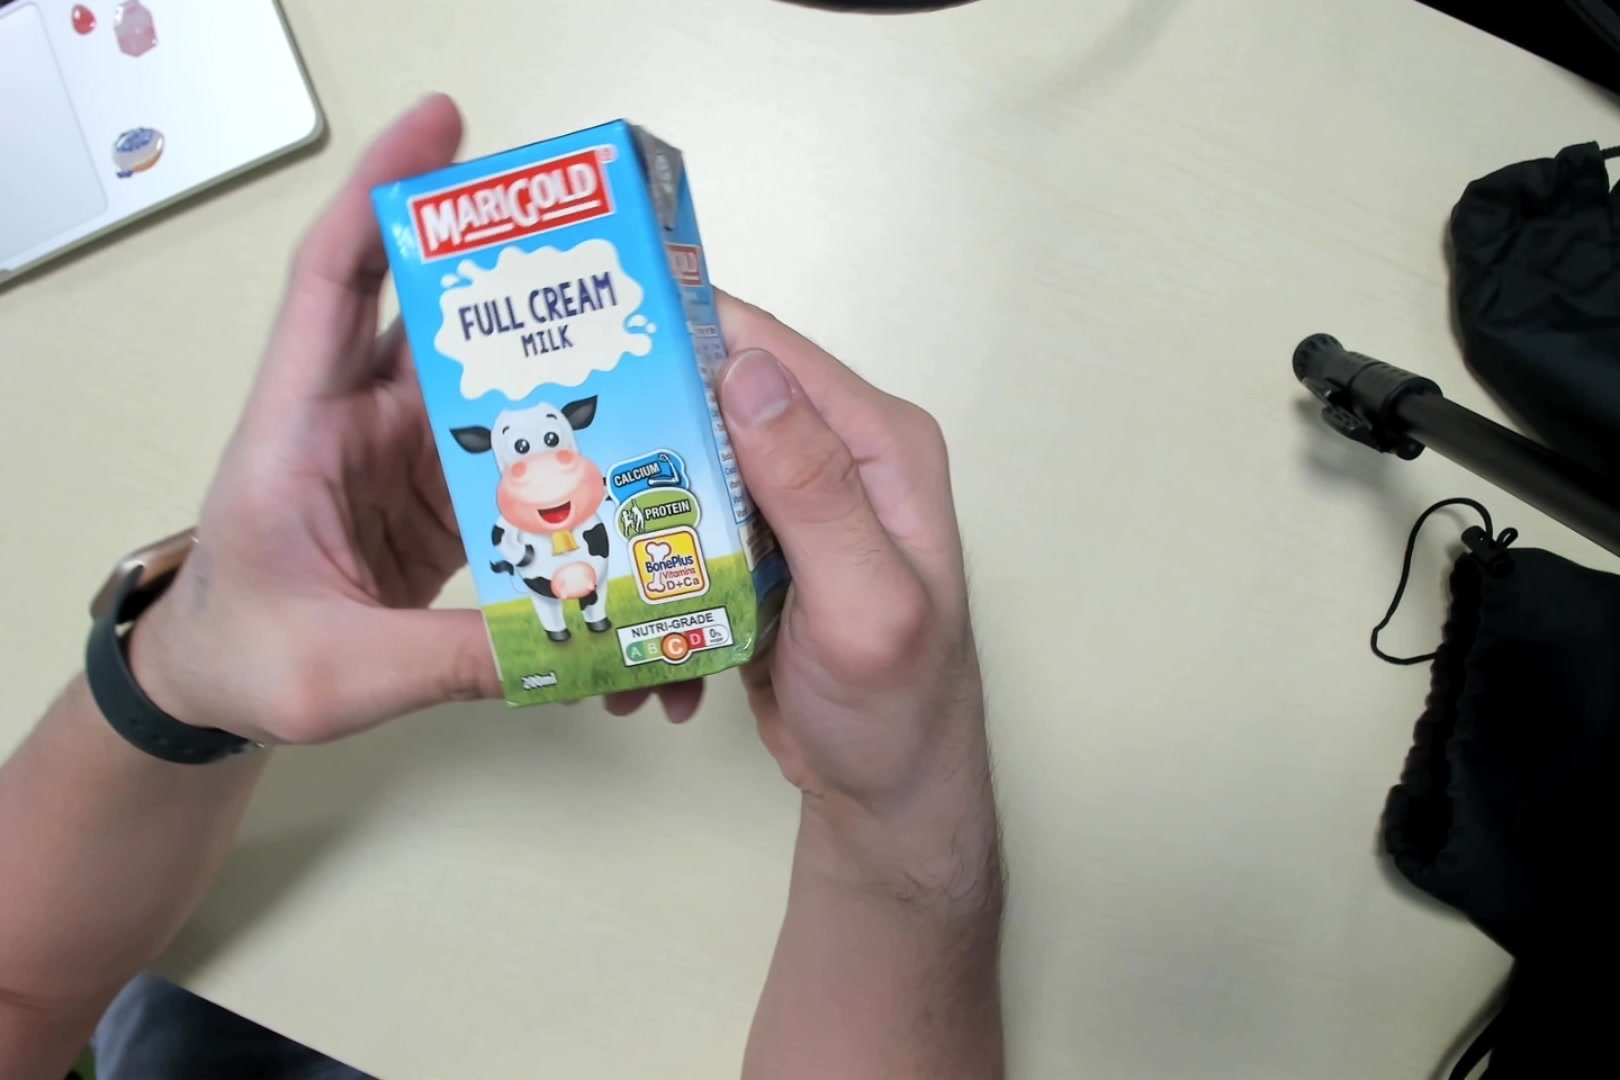Milk(Drink)_200-299g_Halal_NonHealthy: (374, 129, 792, 710)
